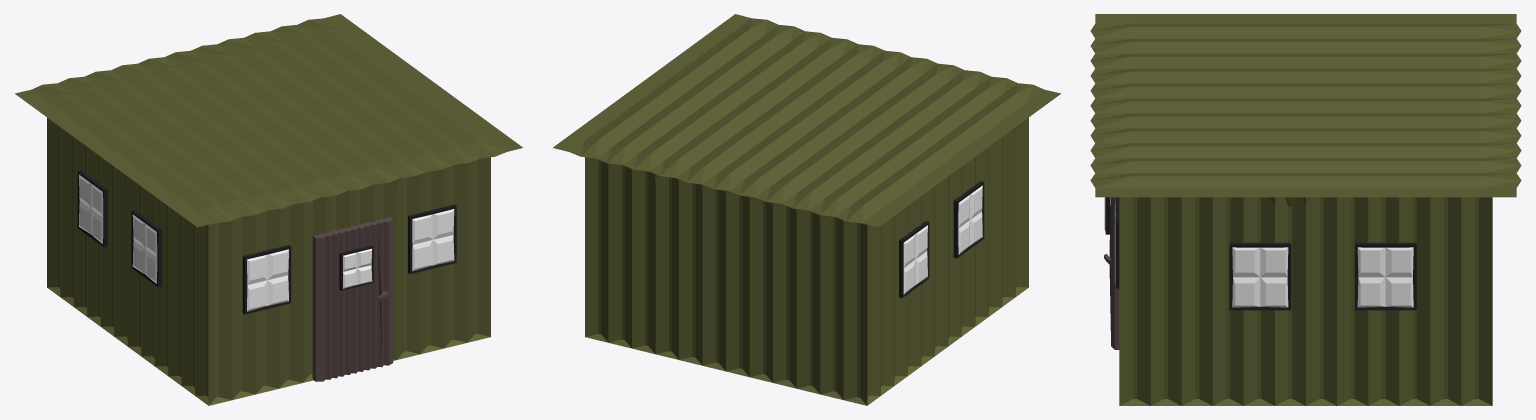
The model's file is TinShackYellow.fbx.
3 renders of one model, left to right at view 1: azimuth 30°, elevation 25°; view 2: azimuth 150°, elevation 25°; view 3: azimuth 270°, elevation 25°, orthographic. The views are drawn at different scales.
Visible parts, largest first — view 1: Box001, Box002, Box009, Box004, Box005, Box007, Box003; view 2: Box001, Box005, Box007; view 3: Box001, Box006, Box008, Box002, Box004.
Part boxes in pixels (left/top/right/bottom): Box001: left=15, top=14, right=522, bottom=405; Box002: left=312, top=217, right=393, bottom=381; Box009: left=242, top=245, right=291, bottom=314; Box004: left=408, top=204, right=456, bottom=274; Box005: left=131, top=210, right=161, bottom=287; Box007: left=77, top=170, right=107, bottom=247; Box003: left=339, top=245, right=373, bottom=290; Box001: left=553, top=14, right=1060, bottom=405; Box005: left=953, top=181, right=984, bottom=258; Box007: left=899, top=221, right=929, bottom=298; Box001: left=1090, top=14, right=1521, bottom=405; Box006: left=1229, top=242, right=1291, bottom=310; Box008: left=1354, top=242, right=1416, bottom=310; Box002: left=1104, top=197, right=1119, bottom=349; Box004: left=1114, top=197, right=1119, bottom=288.
Bounding box in the file's own units: 138 × 79.07 × 137.
